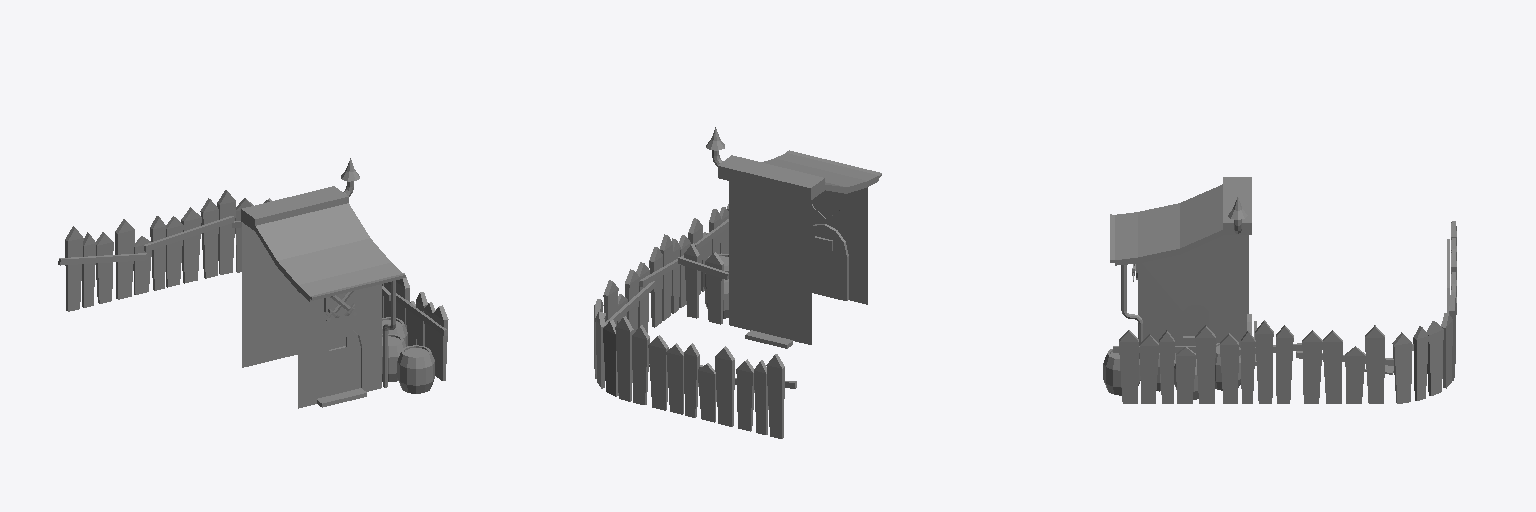
File: House_Part3.obj
The picture shows the model from 3 angles: view 1: azimuth 30°, elevation 25°; view 2: azimuth 150°, elevation 25°; view 3: azimuth 270°, elevation 25°; orthographic projection.
Visible parts, largest first — view 1: miniHouse_Part3; view 2: miniHouse_Part3; view 3: miniHouse_Part3.
Boxes of the visible parts, box(x1,y1,x2,y2) form: miniHouse_Part3: box(58, 158, 448, 408); miniHouse_Part3: box(594, 127, 881, 438); miniHouse_Part3: box(1103, 177, 1456, 403).
Bounding box in the file's own units: 30.49 × 24.69 × 41.36.